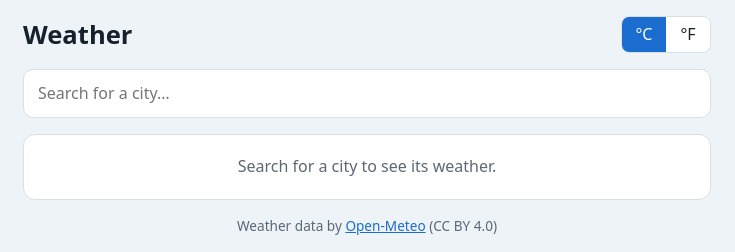
App › says when no city matches
Type "zzz" into the dropdown with placeholder "Search for a city…" at point(367, 94), box [23,69,711,118]
Wait 250 ms
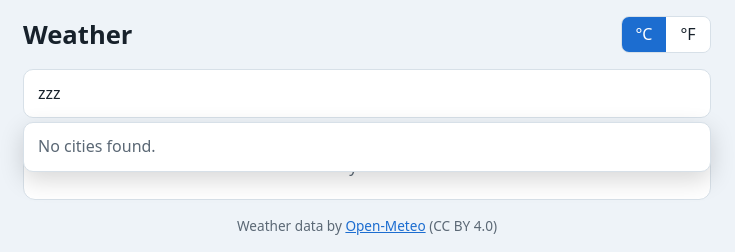
Now the message "No cities found." is shown, box [23,122,711,172]
